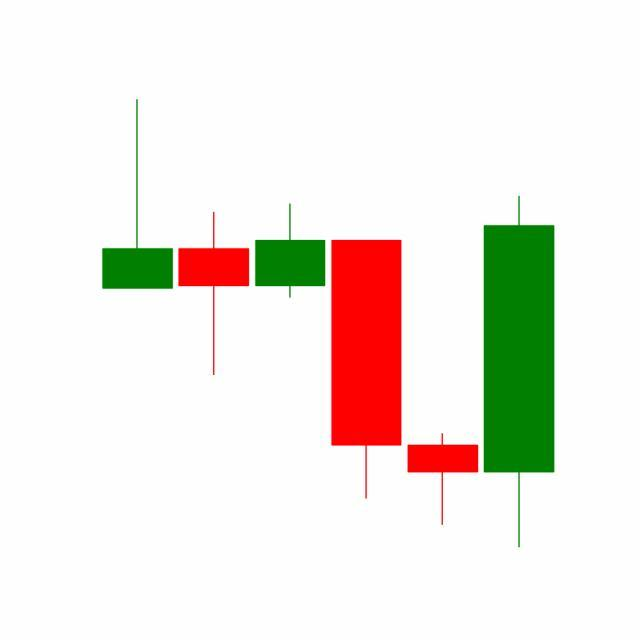Hammer: (404, 432, 482, 527)
